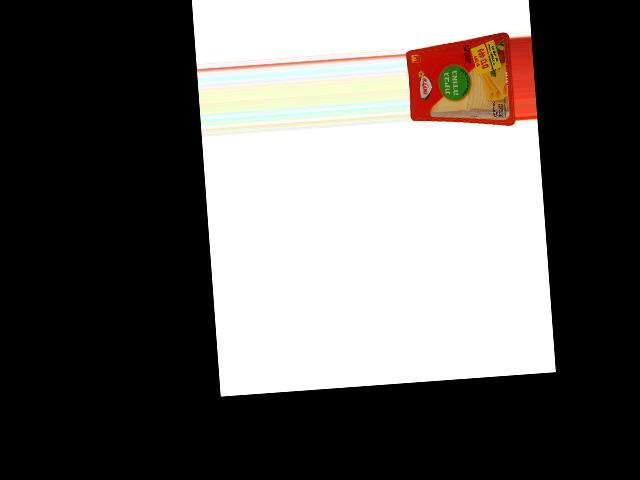cheese: (405, 31, 516, 132)
